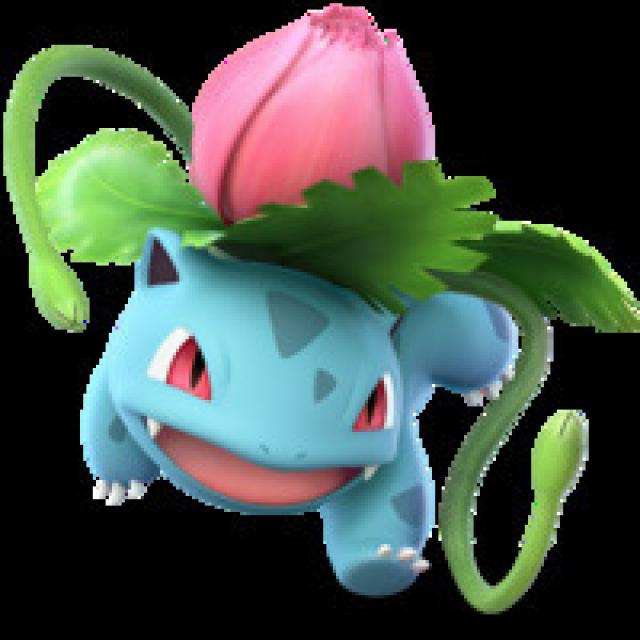Ivysaur: (85, 5, 450, 579)
